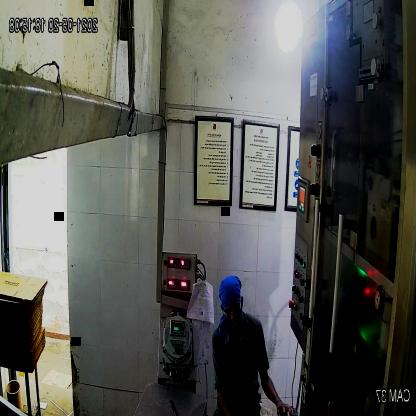goggles: (221, 297, 245, 320)
